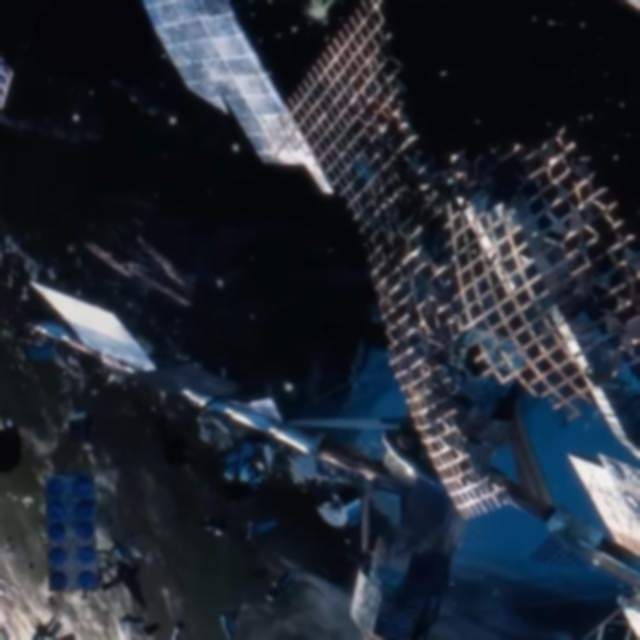large_debris: (20, 274, 640, 639), (269, 8, 640, 546), (124, 0, 337, 204), (24, 466, 113, 616)
